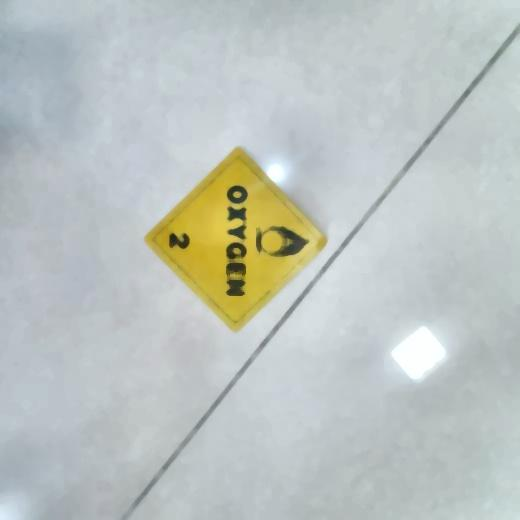oxidizer: (144, 146, 327, 332)
